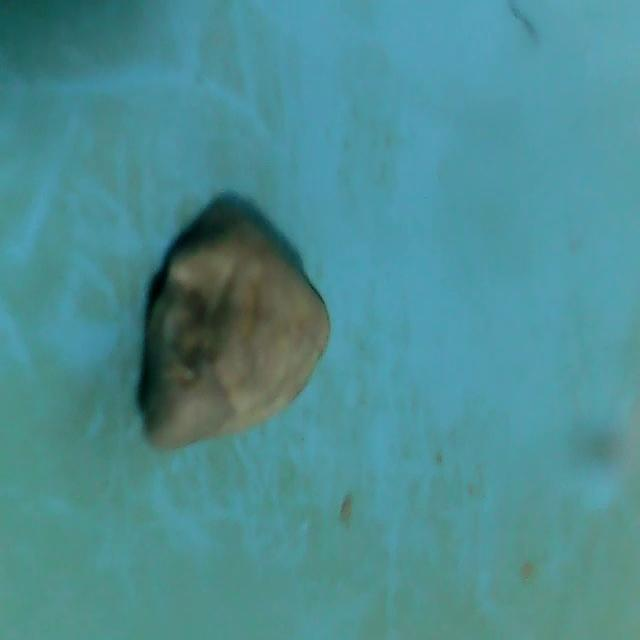rock: (130, 211, 340, 458)
